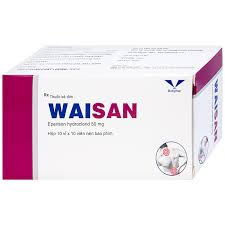Waisan: (45, 101, 139, 121)
